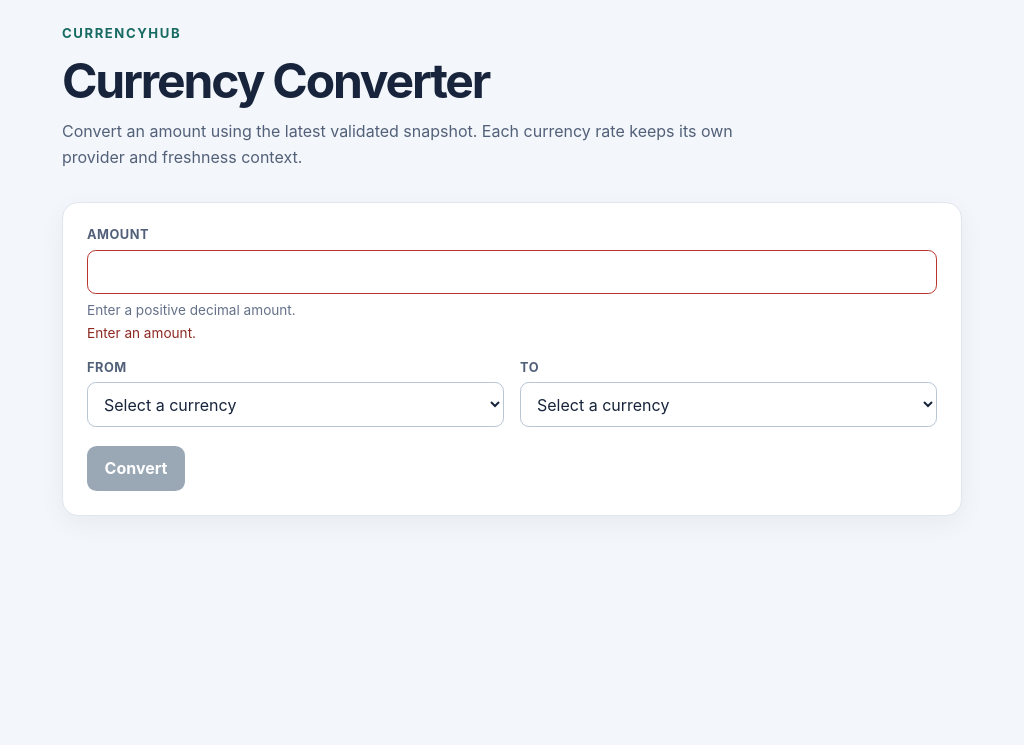
it: ConverterComponent › formats the exact conversion result and keeps source and target provenance separate
The width and height of the screenshot is (1024, 745).
Type "123.456789012345678901" into the field with id "amount" at [512, 272], box [87, 250, 937, 294]
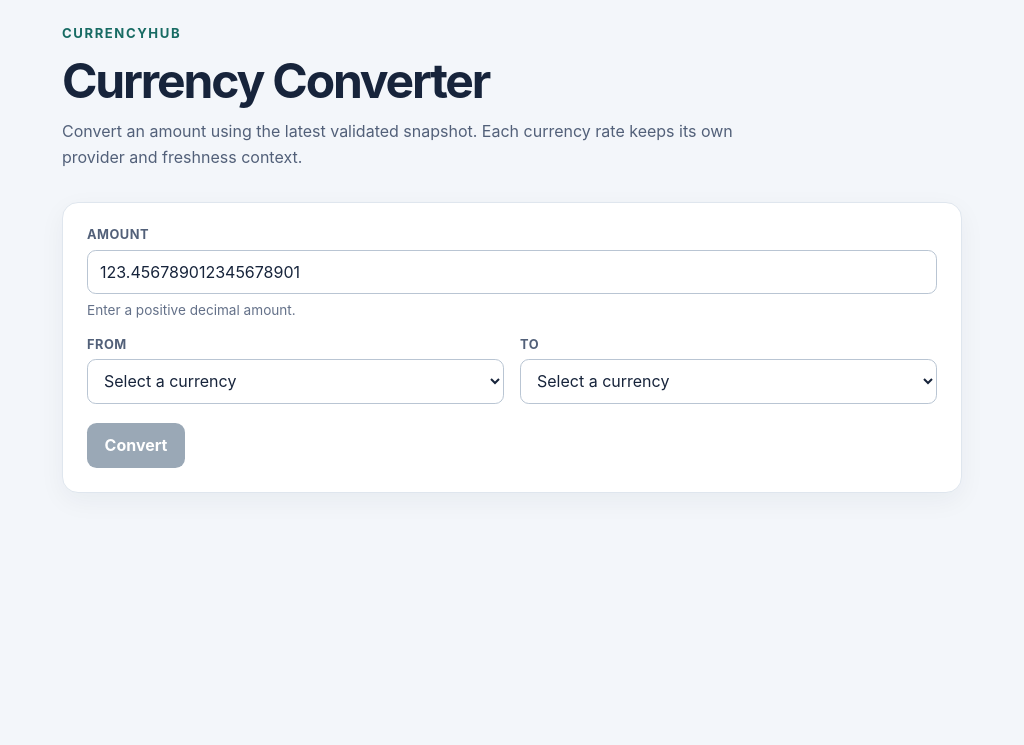
Select "EUR — Euro" in the dropdown with id "source-currency" at [296, 381], box [87, 359, 504, 404]
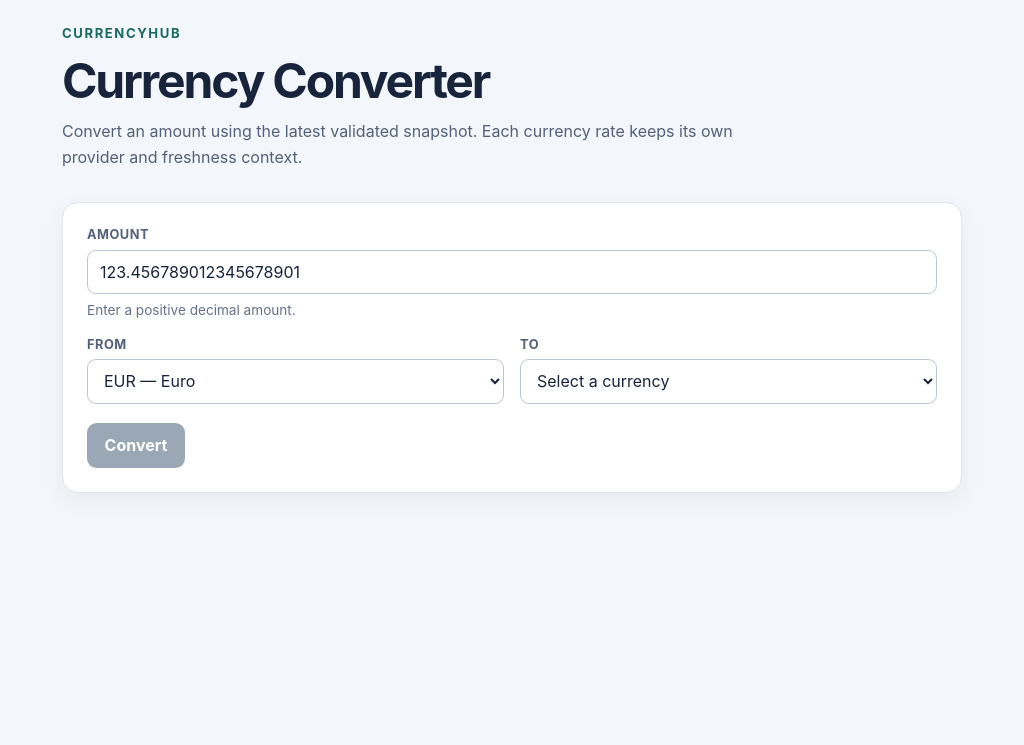
Select "BTC — Bitcoin" in the dropdown with id "target-currency" at [728, 381], box [520, 359, 937, 404]
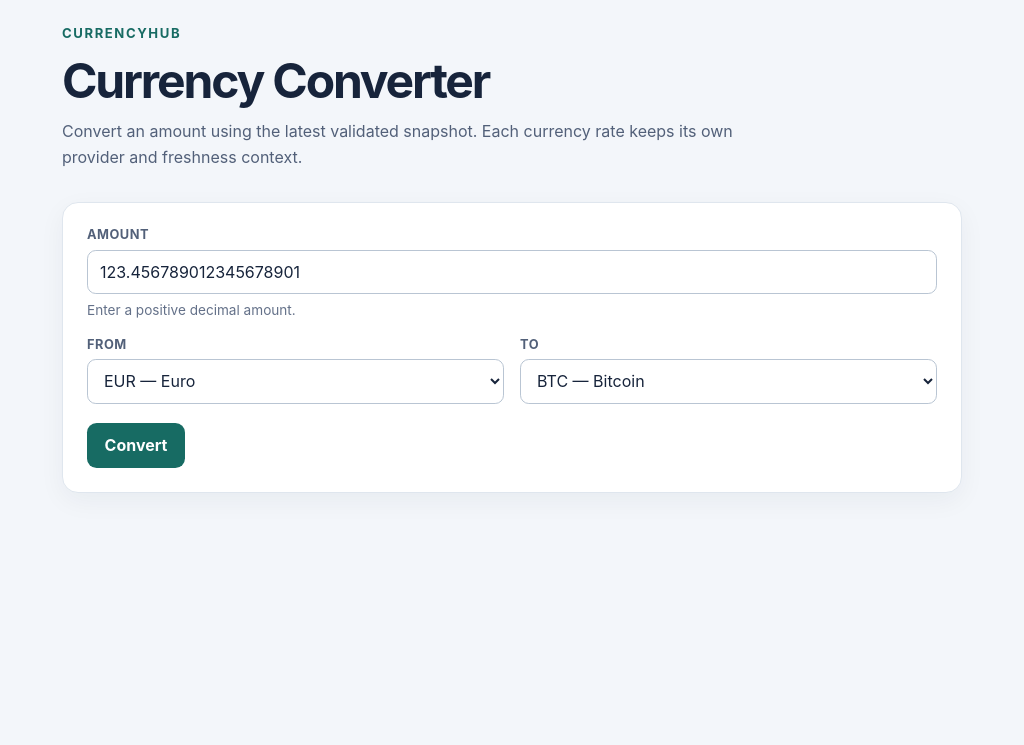
Click the submit button at [136, 445], box [87, 423, 185, 468]
(page scrolled)
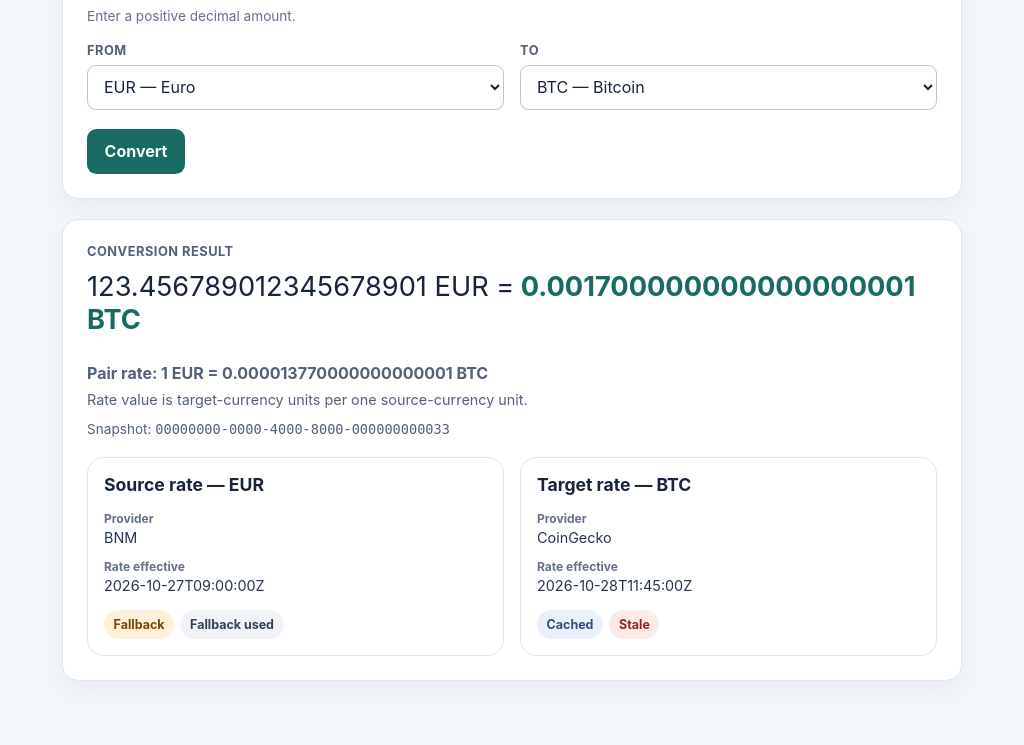
Expected: the element with class "result-panel" shows "123.456789012345678901", [87, 270, 496, 303]
Expected: the element with class "result-panel" shows "EUR", [87, 270, 496, 303]
Expected: the element with class "result-panel" shows "0.001700000000000000001", [87, 270, 915, 336]
